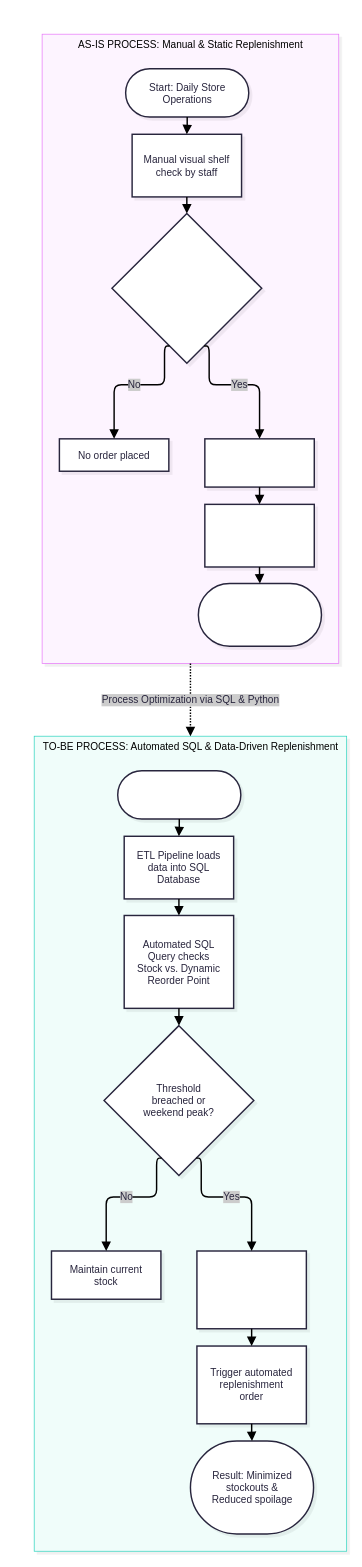
Some shapes in this 362 by 1567 pixel diagram are drawn without their labels. The shapes that lost their labels are listed below. From the top down, each one's centre as x and y in pixels, then its label:
(188,289): Stock visibly low?
(261,464): Place fixed standard order
(261,536): High weekend demand / Short shelf life
(261,615): Result: Out-of-Stock gaps & High shrinkage
(180,796): Start: Daily POS & Inventory Sync
(253,1291): Calculate dynamic order based on sales & shelf life
